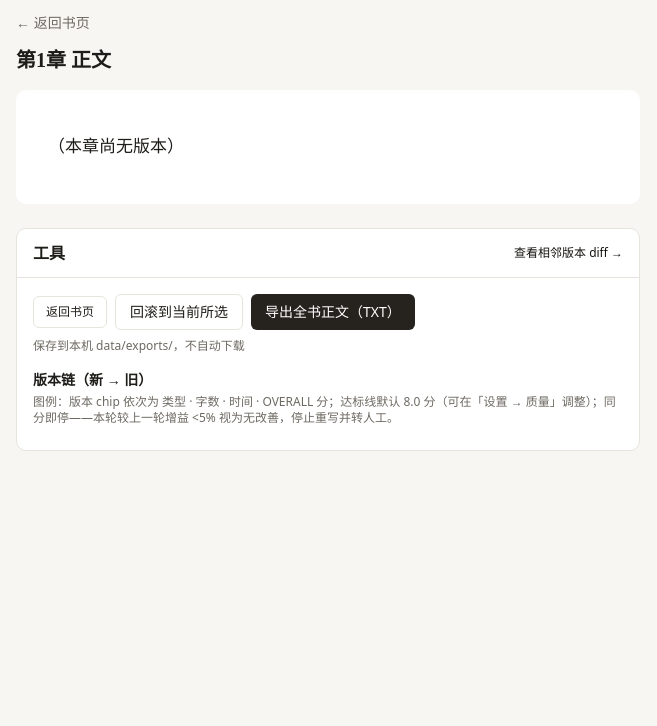
ChapterReaderPage › 导出澄清：按钮「导出全书正文（TXT）」+旁注；toast 报 outDir 绝对路径
The width and height of the screenshot is (657, 726).
Expected: the text "保存到本机 data/exports/，不自动下载" is shown, [33, 338, 245, 354]
Step 1. Click the button "导出全书正文（TXT）" → click(333, 312), box [251, 294, 415, 330]
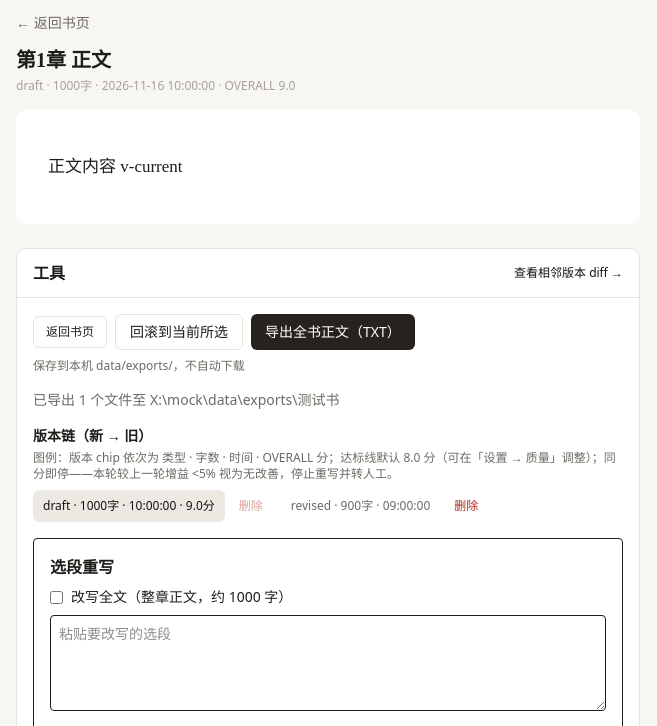
Expected: the text "已导出 1 个文件至 X:\\mock\\data\\exports\\测试书" is shown, [33, 390, 340, 409]
